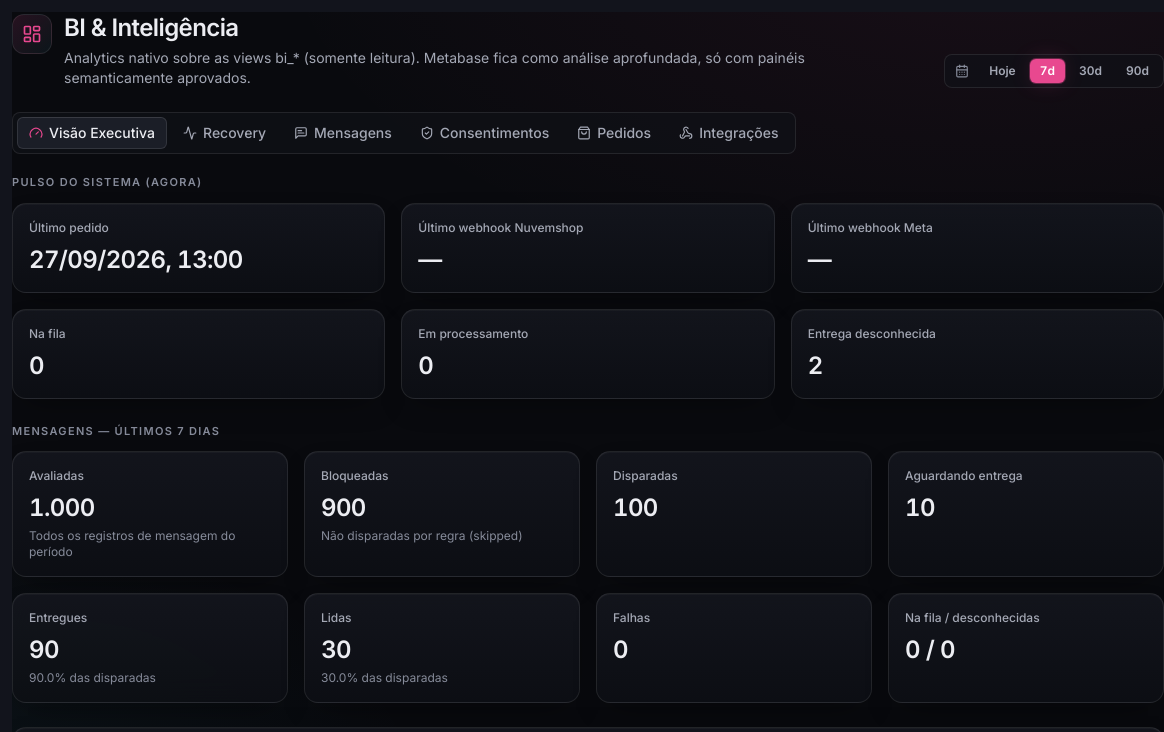
BiPage › período muda o parâmetro days
Expected: the text "Avaliadas" is shown, [29,468,84,483]
What coordinates should you click on to do the following:
click the radio button named "Últimos 90 dias"
I would click on:
 (1138, 71)
Its box is [1116,59,1159,83].
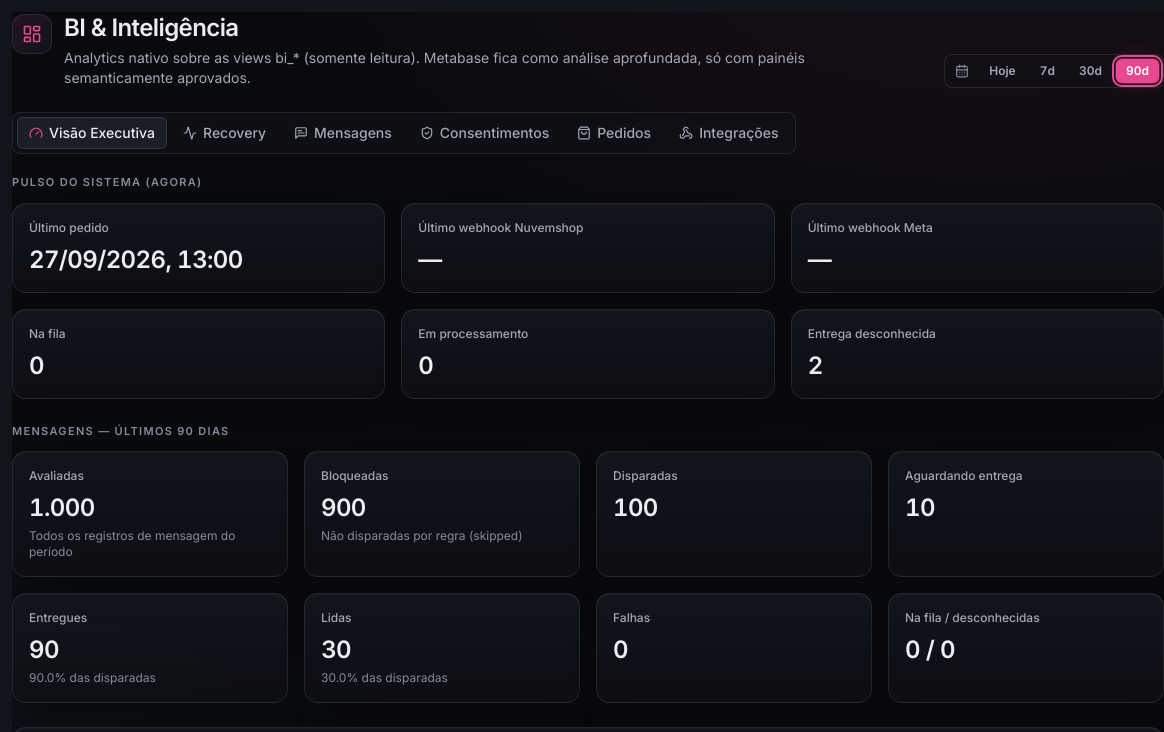
Now the heading "Mensagens — últimos 90 dias" is shown, box [12,424,230,438]
